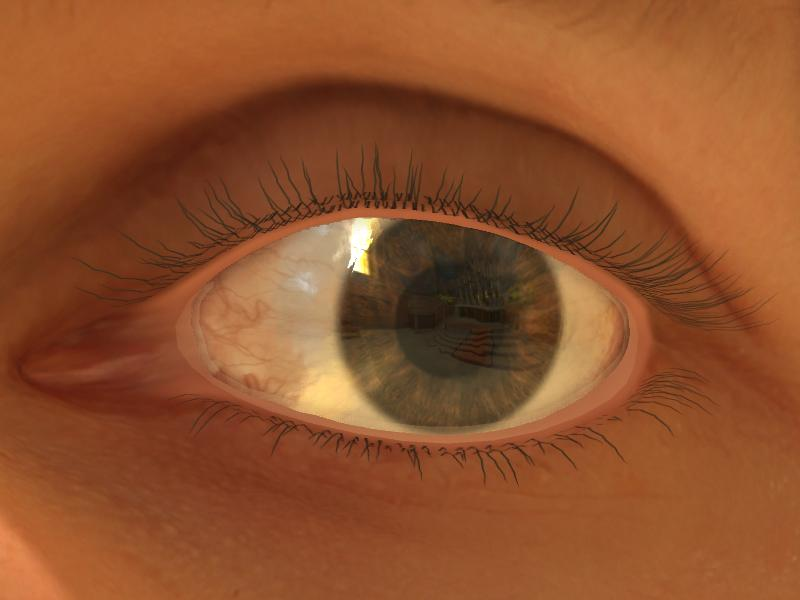eye: (337, 218, 565, 434)
